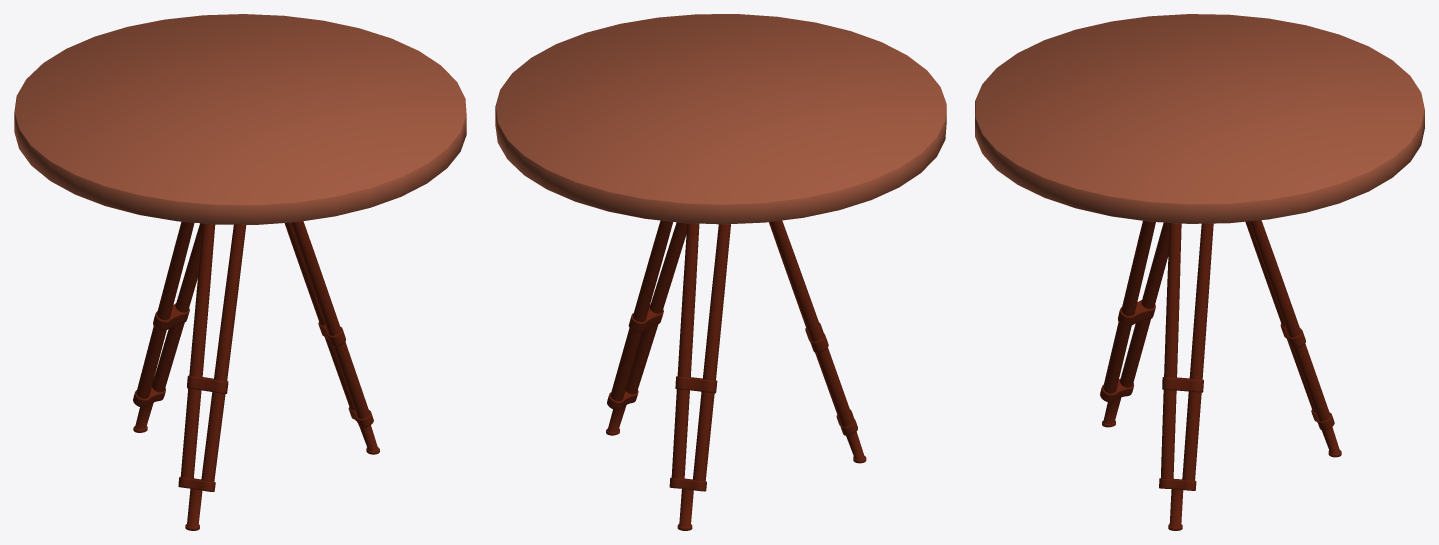
File: MSH_Mesa.FBX
The picture shows the model from 3 angles, left to right: view 1: azimuth 30°, elevation 25°; view 2: azimuth 150°, elevation 25°; view 3: azimuth 270°, elevation 25°; orthographic projection.
Visible parts, largest first — view 1: G_Mesa; view 2: G_Mesa; view 3: G_Mesa.
Part boxes in pixels (x1=…): G_Mesa: x1=14, y1=14, x2=466, y2=530; G_Mesa: x1=495, y1=14, x2=946, y2=530; G_Mesa: x1=975, y1=14, x2=1424, y2=530.
Size of the model in its own units: 51.84 by 45.85 by 51.78.
